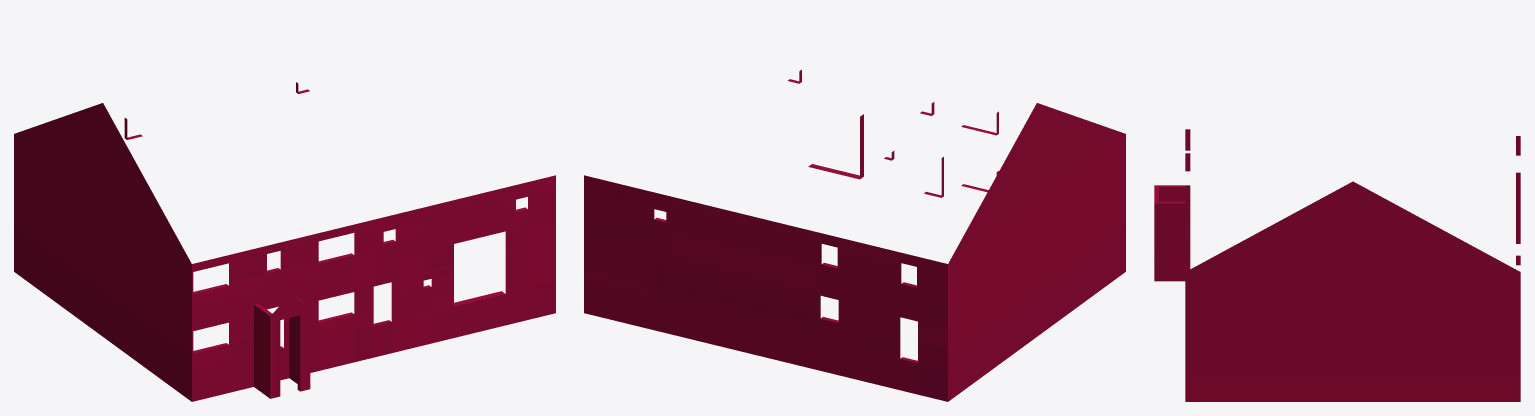
The model's file is SM_Bld_043_Masonry.glb.
The picture shows the model from 3 angles, left to right: view 1: azimuth 30°, elevation 25°; view 2: azimuth 150°, elevation 25°; view 3: azimuth 270°, elevation 25°; orthographic projection. The views are drawn at different scales.
Parts seen in each view (by area): view 1: SM_Bld_043_Masonry; view 2: SM_Bld_043_Masonry; view 3: SM_Bld_043_Masonry.
Boxes of the visible parts, x1,y1,x2,y2 form: SM_Bld_043_Masonry: (14, 82, 555, 401); SM_Bld_043_Masonry: (584, 69, 1125, 401); SM_Bld_043_Masonry: (1154, 129, 1520, 401).
Bounding box in the file's own units: 18.23 × 11.2 × 16.86.
